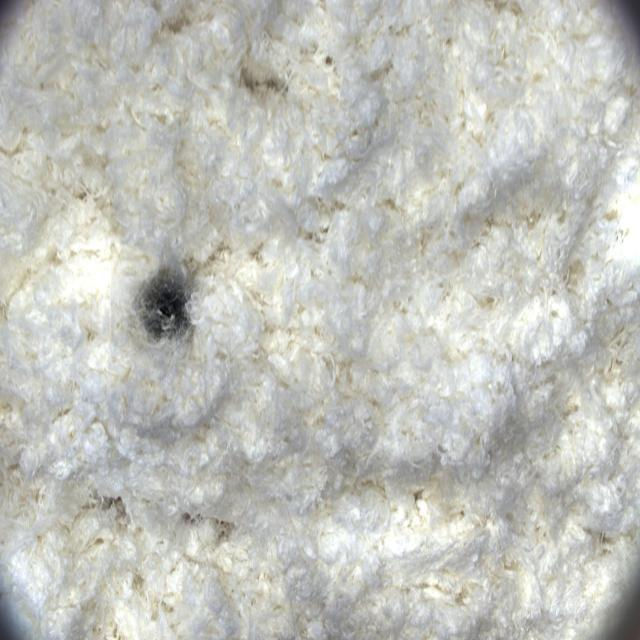dust: (111, 212, 233, 402)
